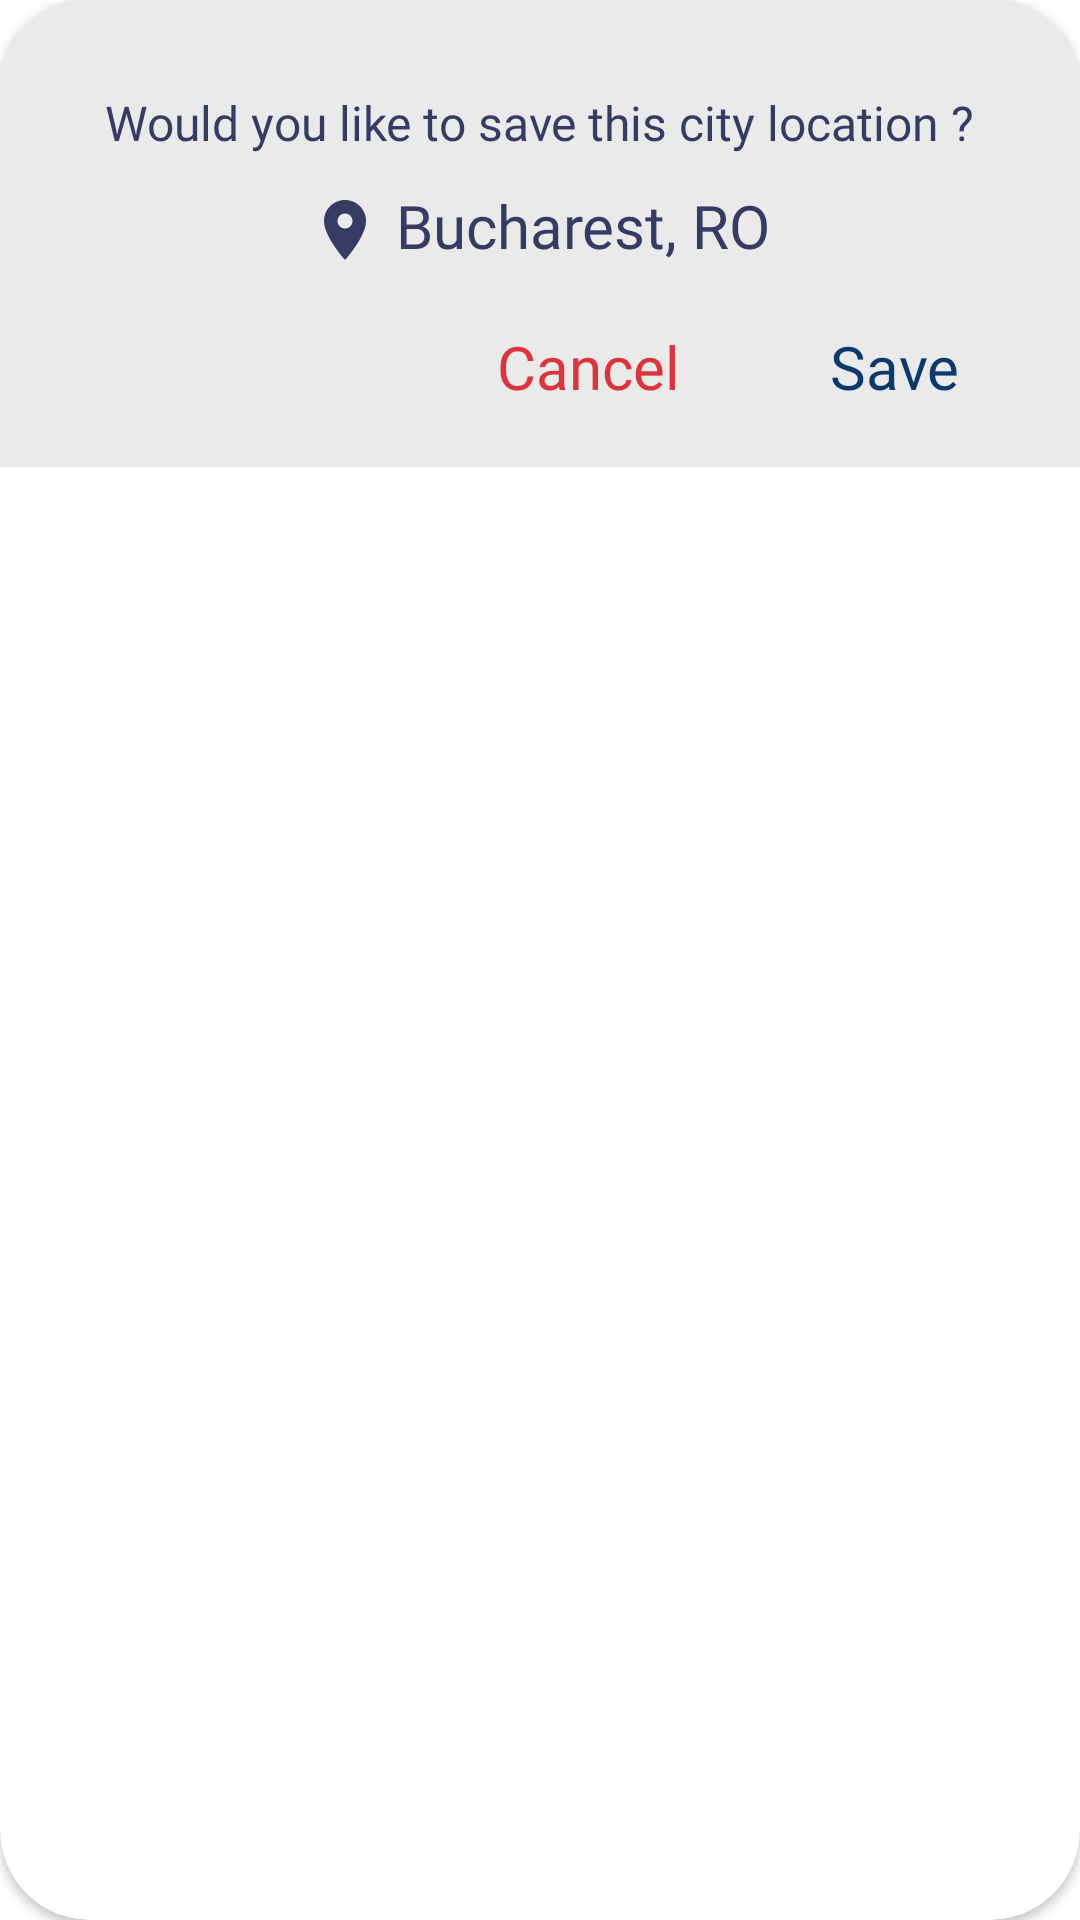

Icons on this 1080px x 1920px Android screen, each with the point to tap as (x=x, y=y):
location pin: (x=345, y=230)
